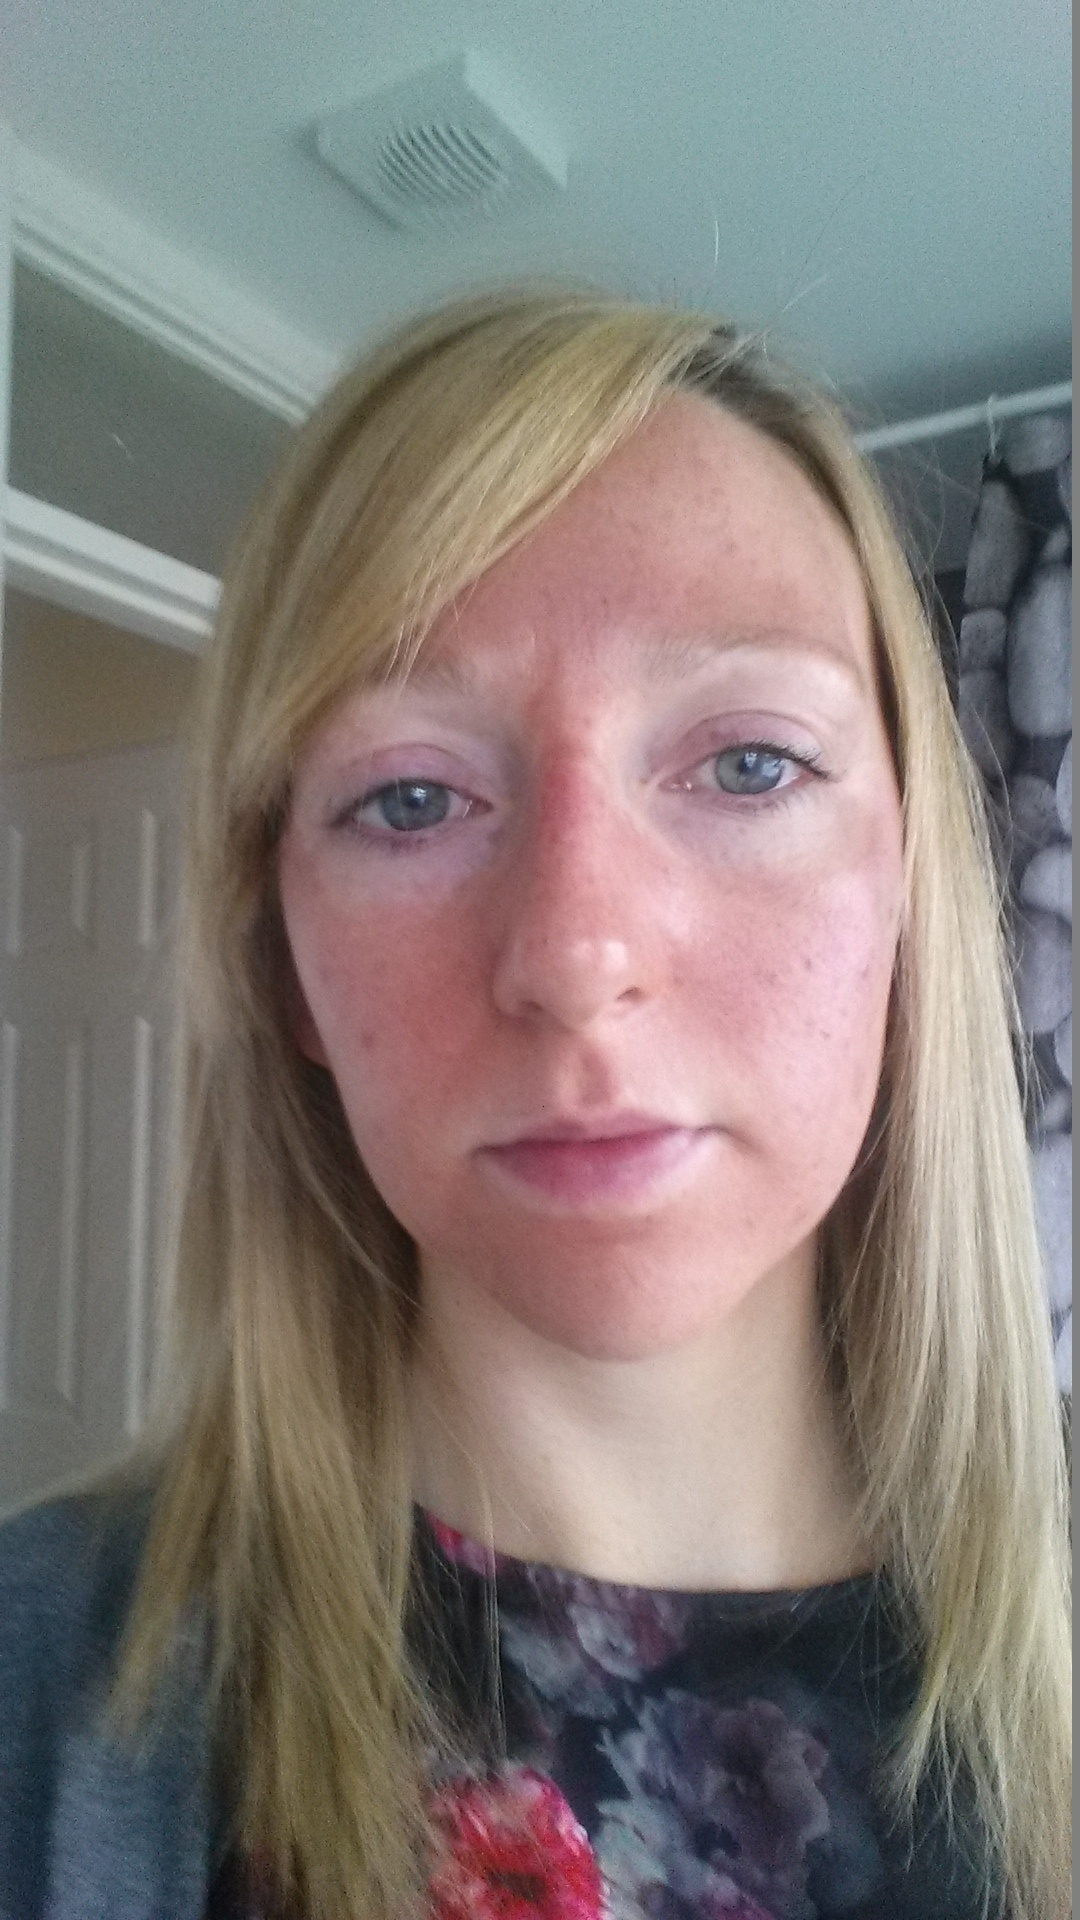without_mask: (273, 376, 915, 1358)
